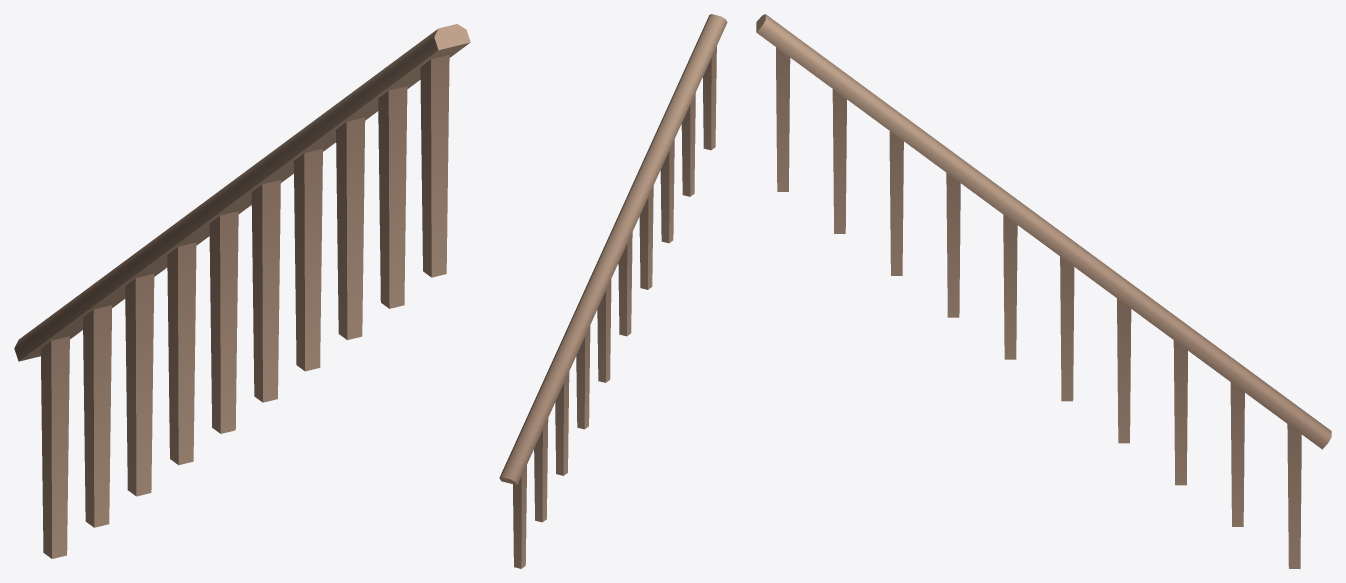
The model's file is stairs-railing-basic.glb.
3 views of the same model, side by side, from view 1: azimuth 30°, elevation 25°; view 2: azimuth 150°, elevation 25°; view 3: azimuth 270°, elevation 25° (orthographic). The views are drawn at different scales.
Parts seen in each view (by area): view 1: stairs-railing-basic; view 2: stairs-railing-basic; view 3: stairs-railing-basic.
Boxes of the visible parts, <box> form: stairs-railing-basic: <box>14,24,470,558</box>; stairs-railing-basic: <box>499,14,727,568</box>; stairs-railing-basic: <box>756,14,1331,568</box>.
Bounding box in the file's own units: 0.12 × 2.91 × 2.76.
